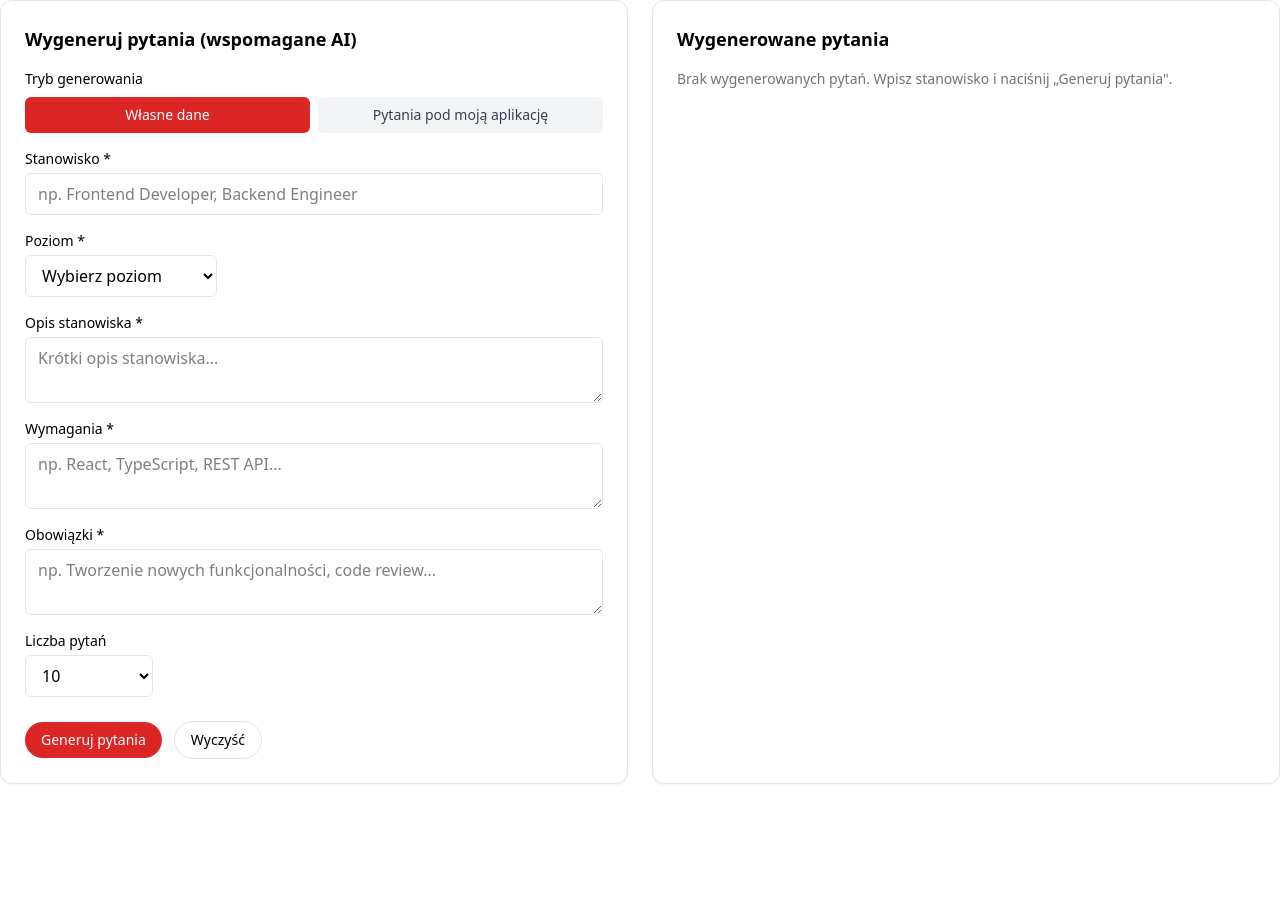
Scenario: InterviewTestGenerator › custom mode validation errors
Step 1. Click the button "Generuj pytania" → (93, 740), box [25, 722, 162, 758]
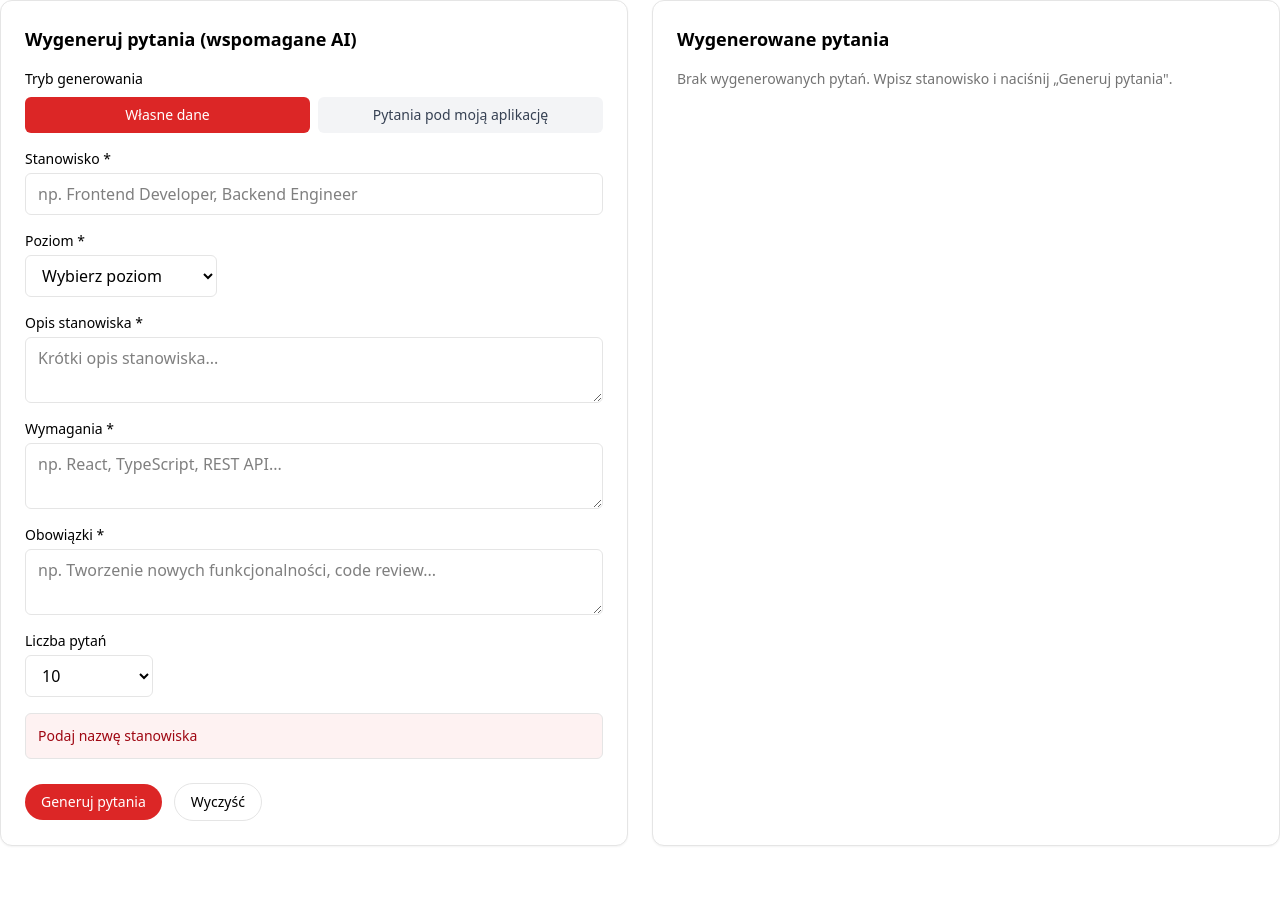
Now the text "Podaj nazwę stanowiska" is shown, box [38, 726, 197, 745]
Step 2. Type "Dev" into the field labelled "Stanowisko *" → (314, 194), box [25, 173, 603, 215]
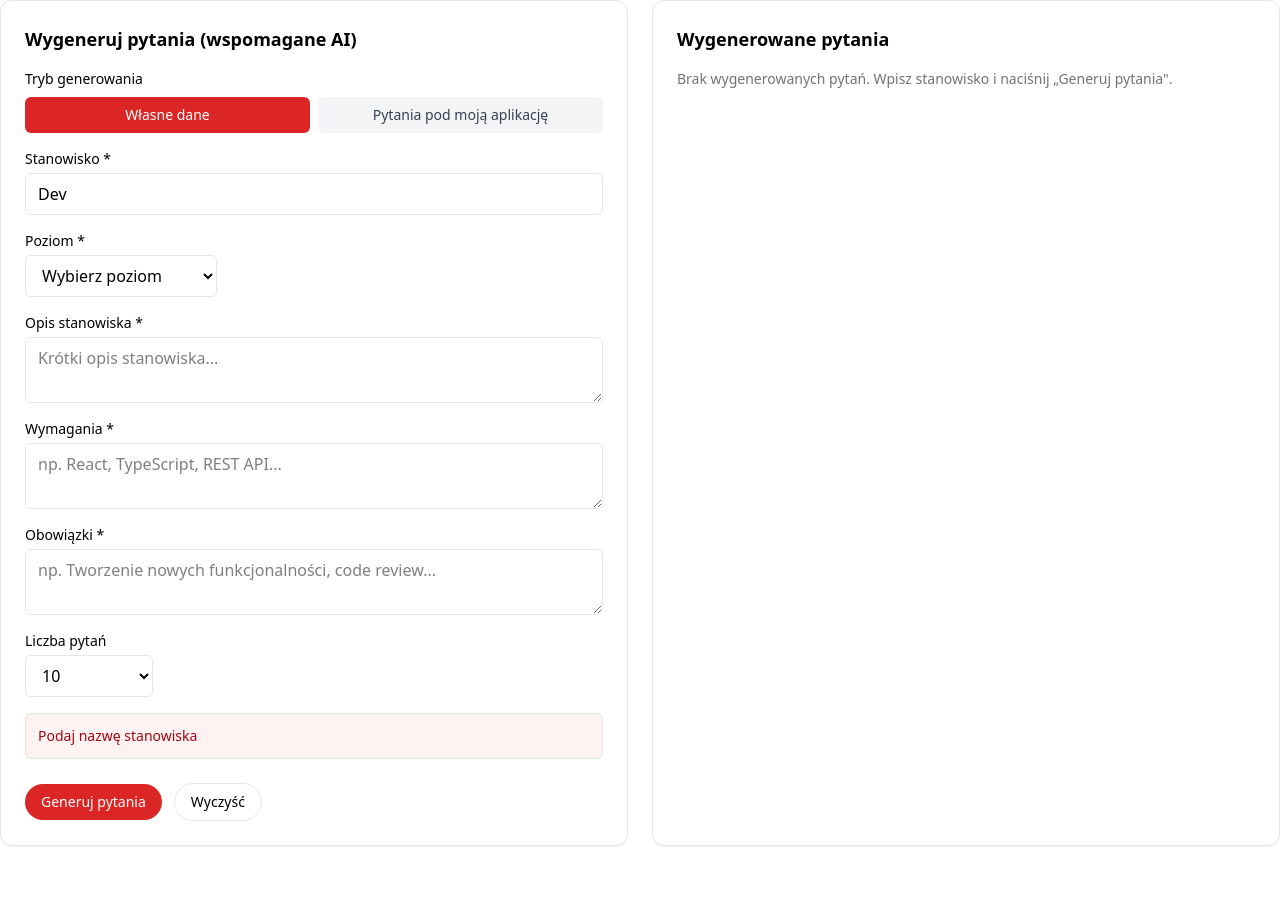
Step 3. Click the button "Generuj pytania" → (93, 802), box [25, 784, 162, 820]
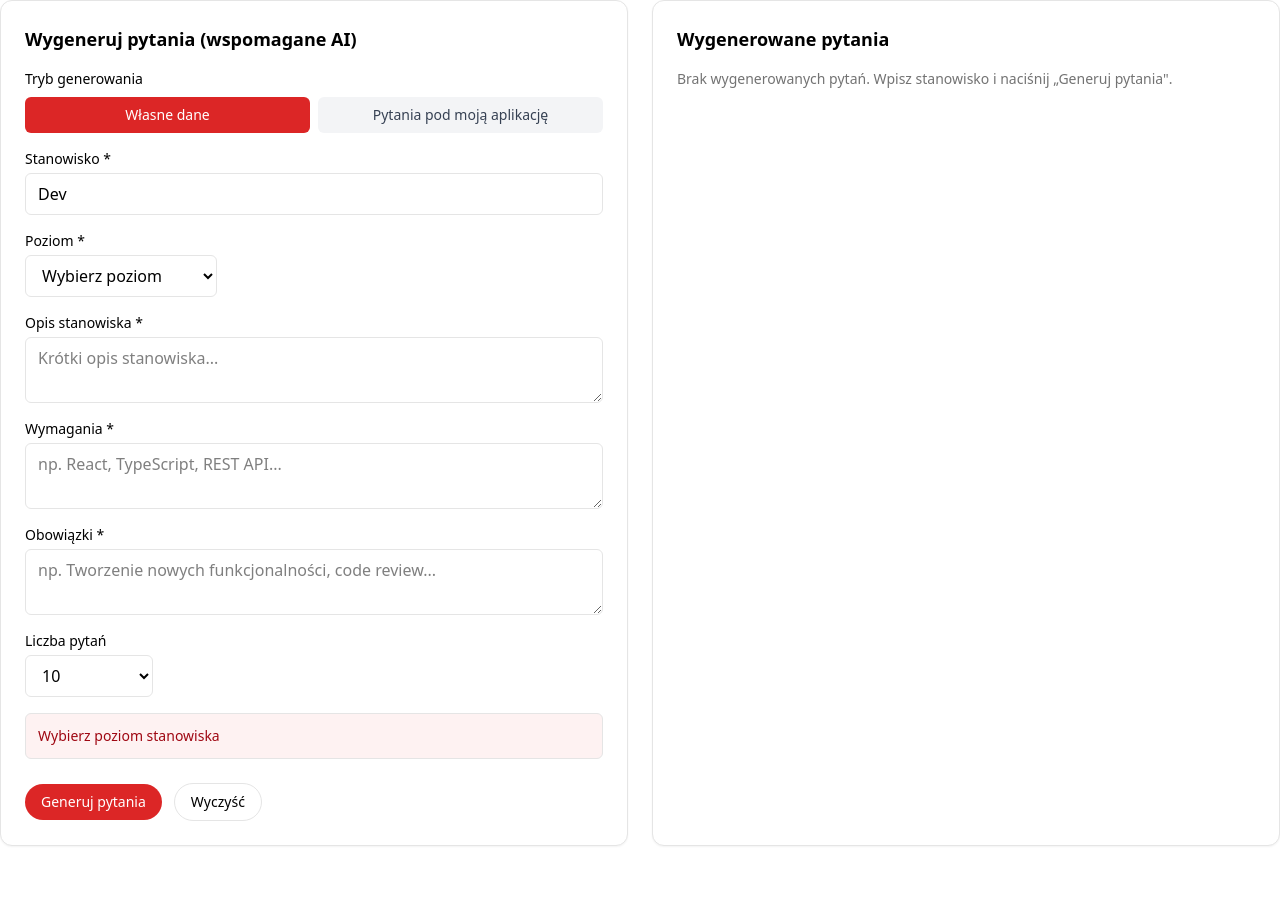
Now the text "Wybierz poziom stanowiska" is shown, box [38, 726, 220, 745]
